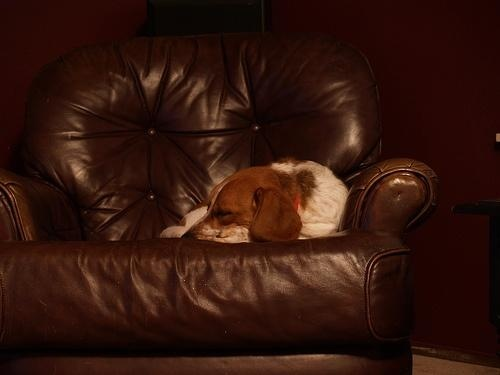chair: (1, 36, 437, 375)
dog: (158, 157, 348, 240)
